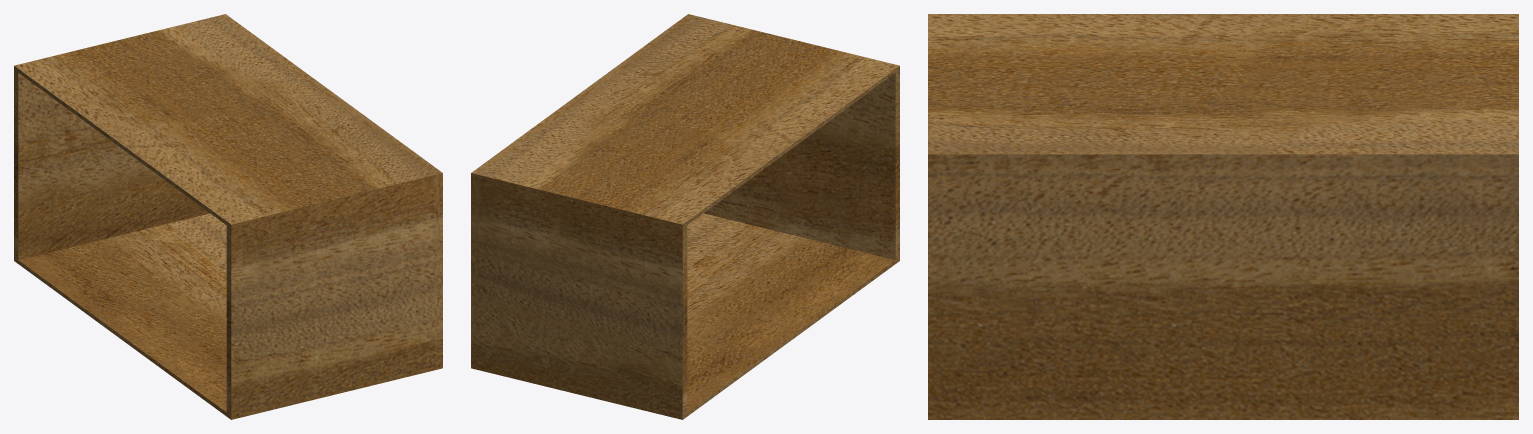
File: väike_riiul.fbx
3 views of the same model, side by side, from view 1: azimuth 30°, elevation 25°; view 2: azimuth 150°, elevation 25°; view 3: azimuth 270°, elevation 25° (orthographic). The views are drawn at different scales.
Parts seen in each view (by area): view 1: riiul; view 2: riiul; view 3: riiul.
Boxes of the visible parts, <box> form: riiul: <box>14,14,442,419</box>; riiul: <box>471,14,899,419</box>; riiul: <box>928,14,1518,419</box>.
Size of the model in its own units: 506 by 446 by 900.
